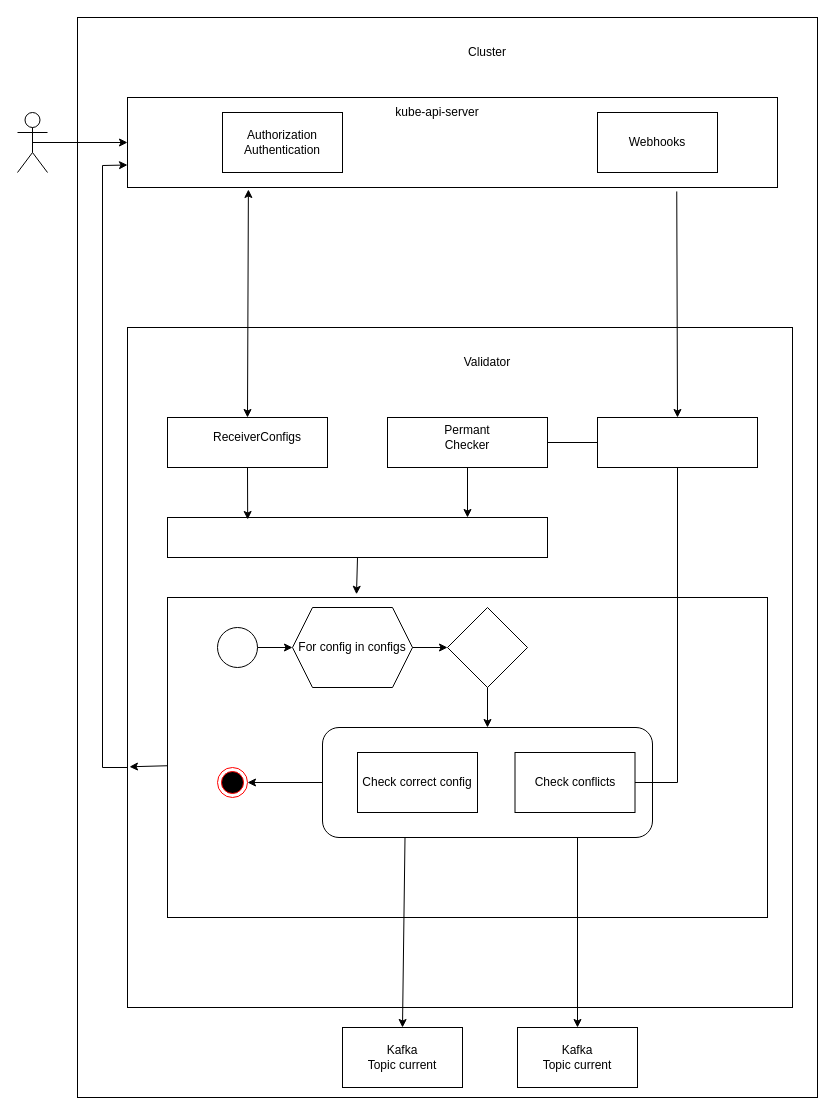
Image size: 835x1115. Some labels were removed from this diagram. The centre of each missing label's shape, as x and y in pixels:
Actor: the point at 32,142
Cache: the point at 677,442
Filter configs: the point at 357,537
Type config?: the point at 487,647
